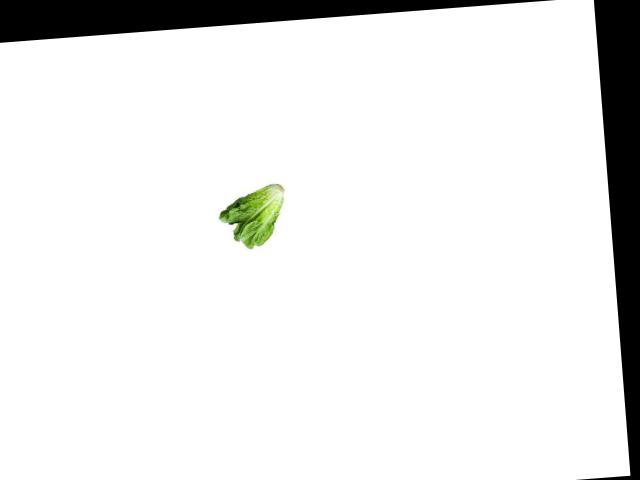lettuce: (217, 181, 291, 259)
